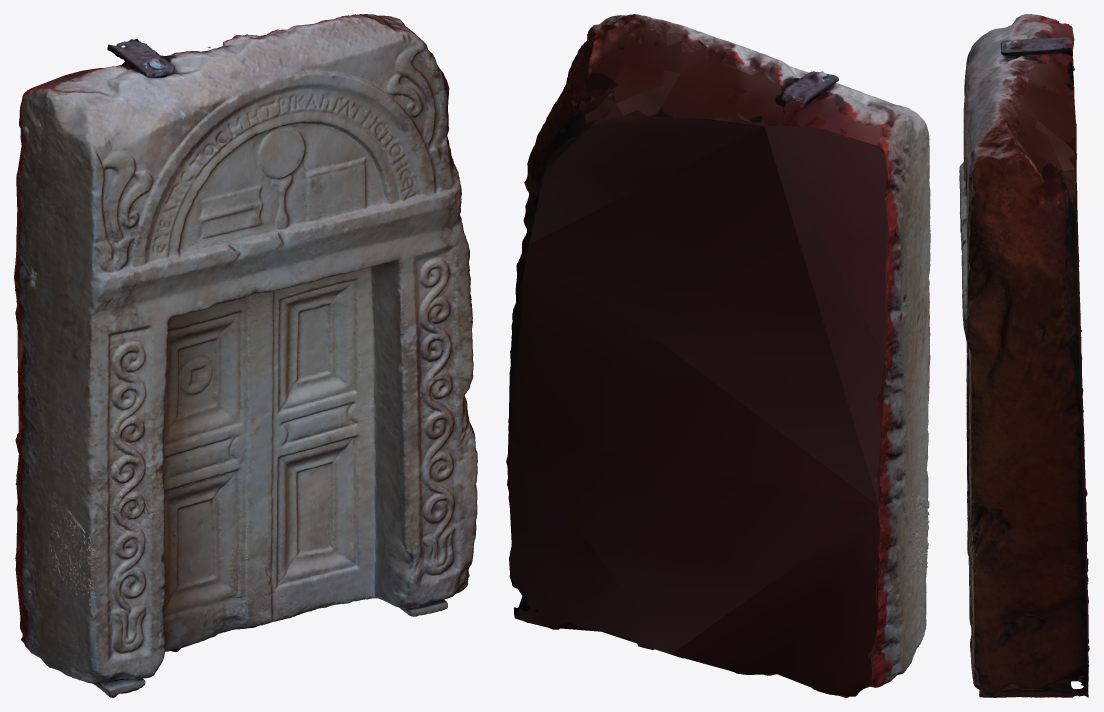
The model's file is funerary_stele_depicting_toiletries.glb.
3 renders of one model, left to right at view 1: azimuth 30°, elevation 25°; view 2: azimuth 150°, elevation 25°; view 3: azimuth 270°, elevation 25°, orthographic. The views are drawn at different scales.
Visible parts, largest first — view 1: Object_3, Object_6, Object_4, Object_5, Object_2, Object_7; view 2: Object_2, Object_4, Object_6, Object_3, Object_5; view 3: Object_2, Object_4, Object_3, Object_5, Object_6, Object_7.
Part boxes in pixels (box(x1,y1,x2,y2)): Object_3: box(43, 14, 477, 646); Object_6: box(14, 87, 473, 697); Object_4: box(20, 15, 477, 697); Object_5: box(15, 155, 473, 692); Object_2: box(16, 14, 477, 684); Object_7: box(94, 209, 285, 683); Object_2: box(506, 14, 929, 697); Object_4: box(528, 29, 928, 634); Object_6: box(526, 114, 930, 697); Object_3: box(552, 15, 930, 231); Object_5: box(875, 467, 929, 648); Object_2: box(961, 14, 1089, 697); Object_4: box(966, 19, 1077, 697); Object_3: box(963, 19, 1062, 683); Object_5: box(961, 232, 1085, 555); Object_6: box(959, 14, 1088, 601); Object_7: box(959, 157, 969, 533).
Size of the model in its own units: 14.49 by 20.76 by 4.46.
Materials: 1 (1 with a texture image).
